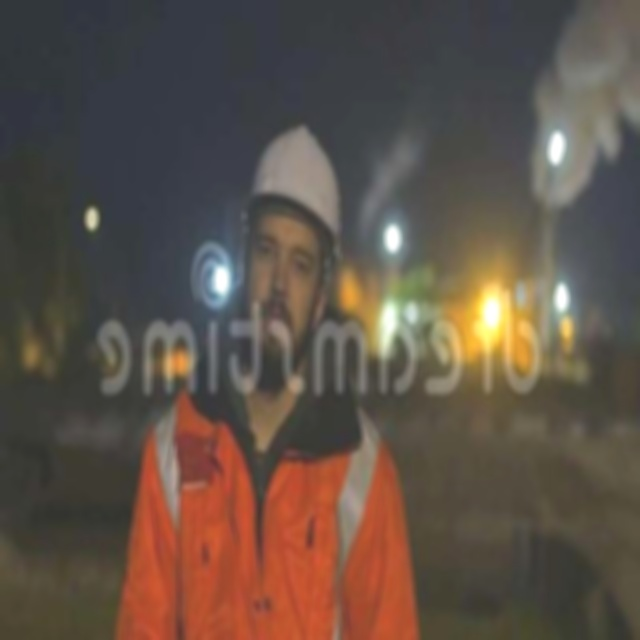Con_Casco: (240, 128, 340, 305)
Con_Chaleco: (132, 411, 377, 640)
